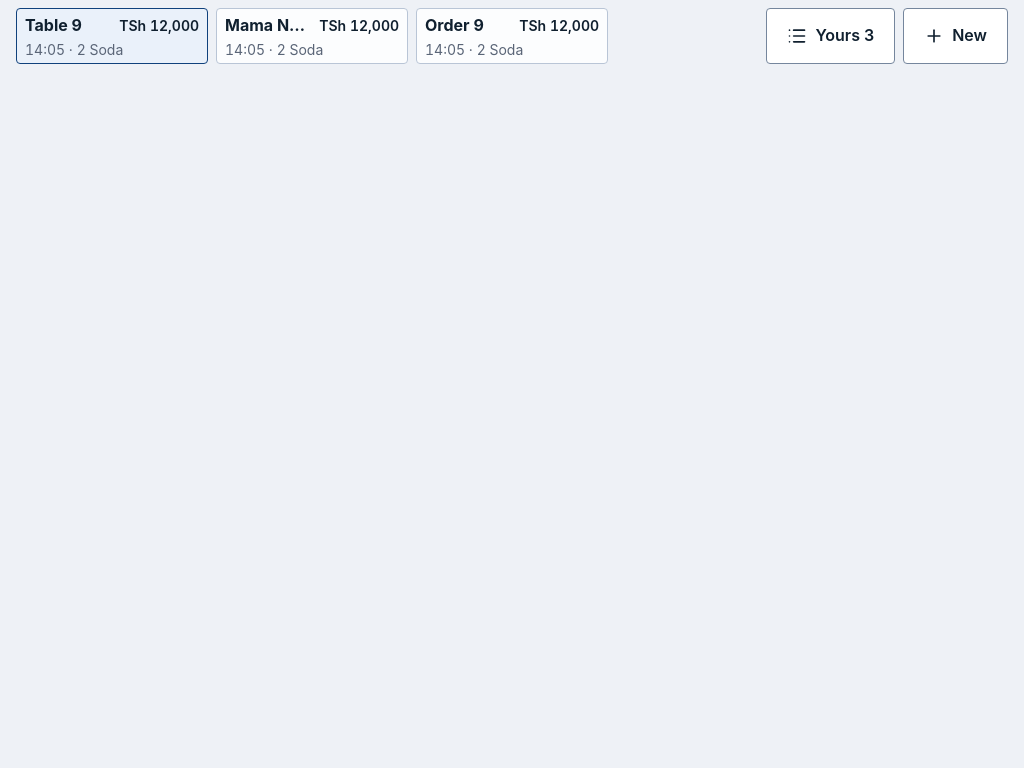
Test: OpenOrdersBar for a waiter (owner, 2026-10-27) › is the waiter's own orders, and says so
This screenshot has width=1024, height=768.
Expected: the navigation bar named "Your open orders" is shown, [0,0,1023,72]
Click the button with test id "open-orders-all" at (831, 36), box [766,8,895,64]
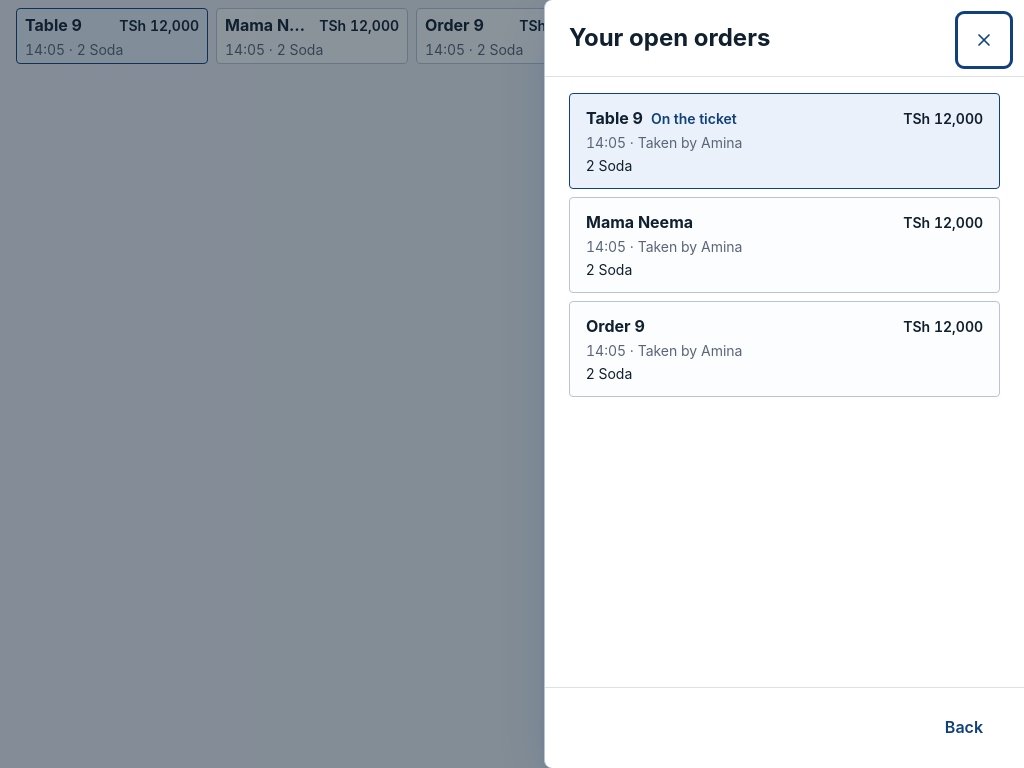
Result: the heading "Your open orders" is shown at [569,24,770,53]
